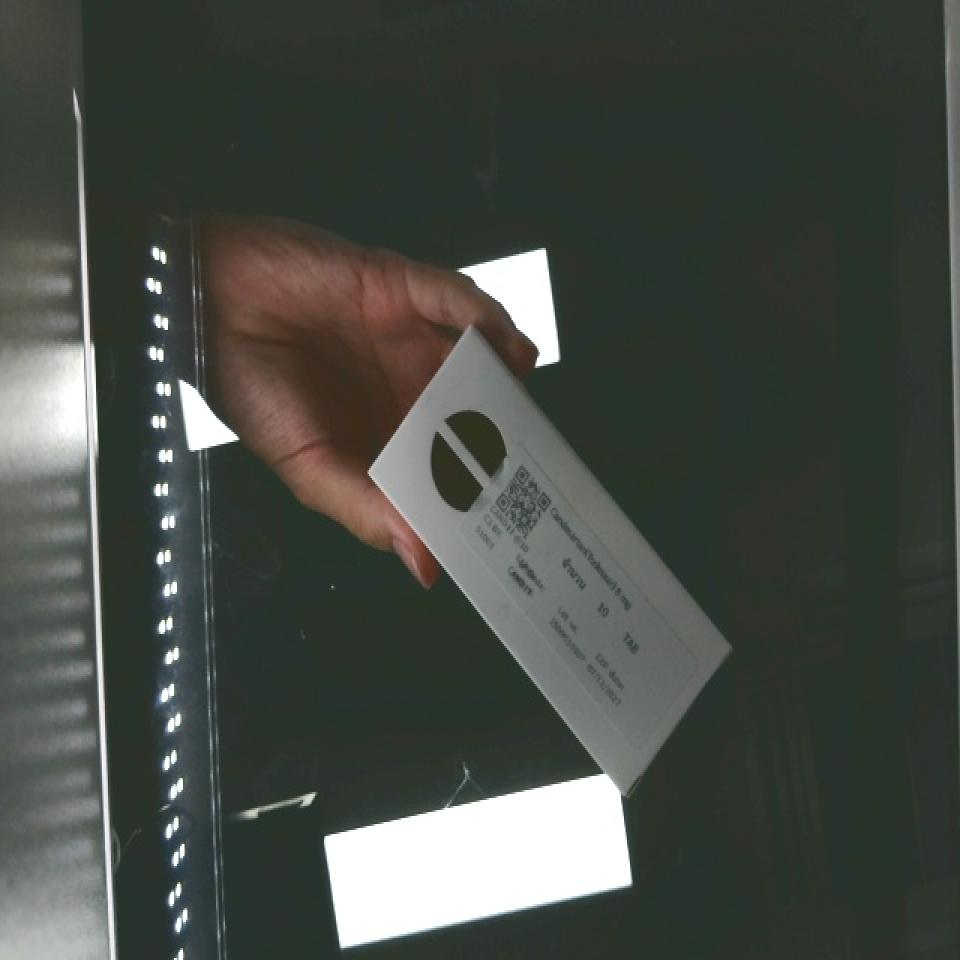medicine_box: (333, 330, 761, 799)
qr_code: (459, 432, 586, 566)
